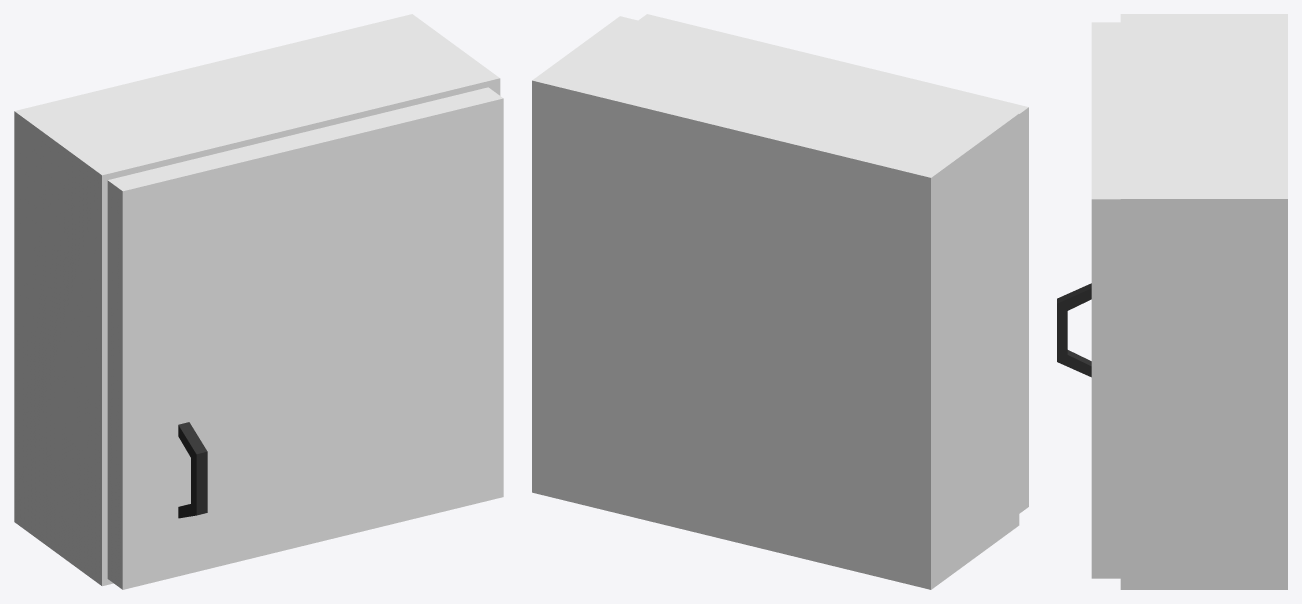
File: Cupboard_1_2.fbx
The picture shows the model from 3 angles, left to right: view 1: azimuth 30°, elevation 25°; view 2: azimuth 150°, elevation 25°; view 3: azimuth 270°, elevation 25°; orthographic projection. The views are drawn at different scales.
Visible parts, largest first — view 1: polySurface1493; view 2: polySurface1493; view 3: polySurface1493.
Part boxes in pixels (x1,y1,x2,y2): polySurface1493: [14, 14, 503, 589]; polySurface1493: [532, 14, 1028, 589]; polySurface1493: [1057, 14, 1287, 589].
Size of the model in its own units: 0.9123 by 0.9 by 0.4813.
1 material, 1 textured.
